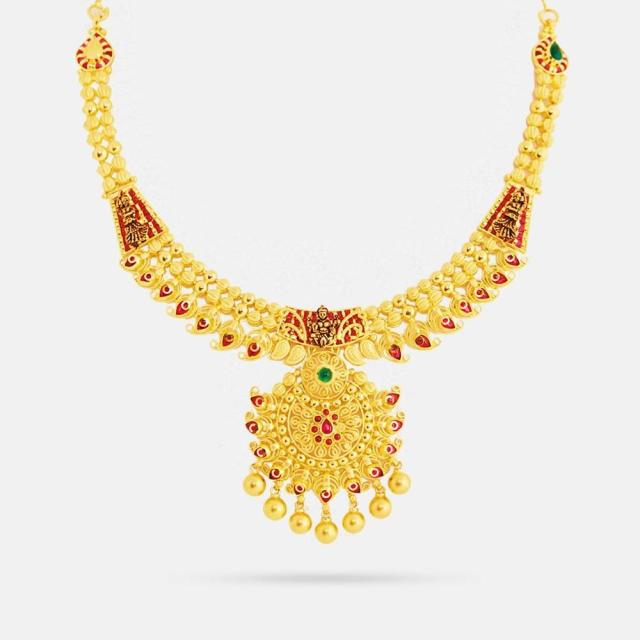missing gem: (84, 35, 103, 59), (338, 424, 344, 431)
